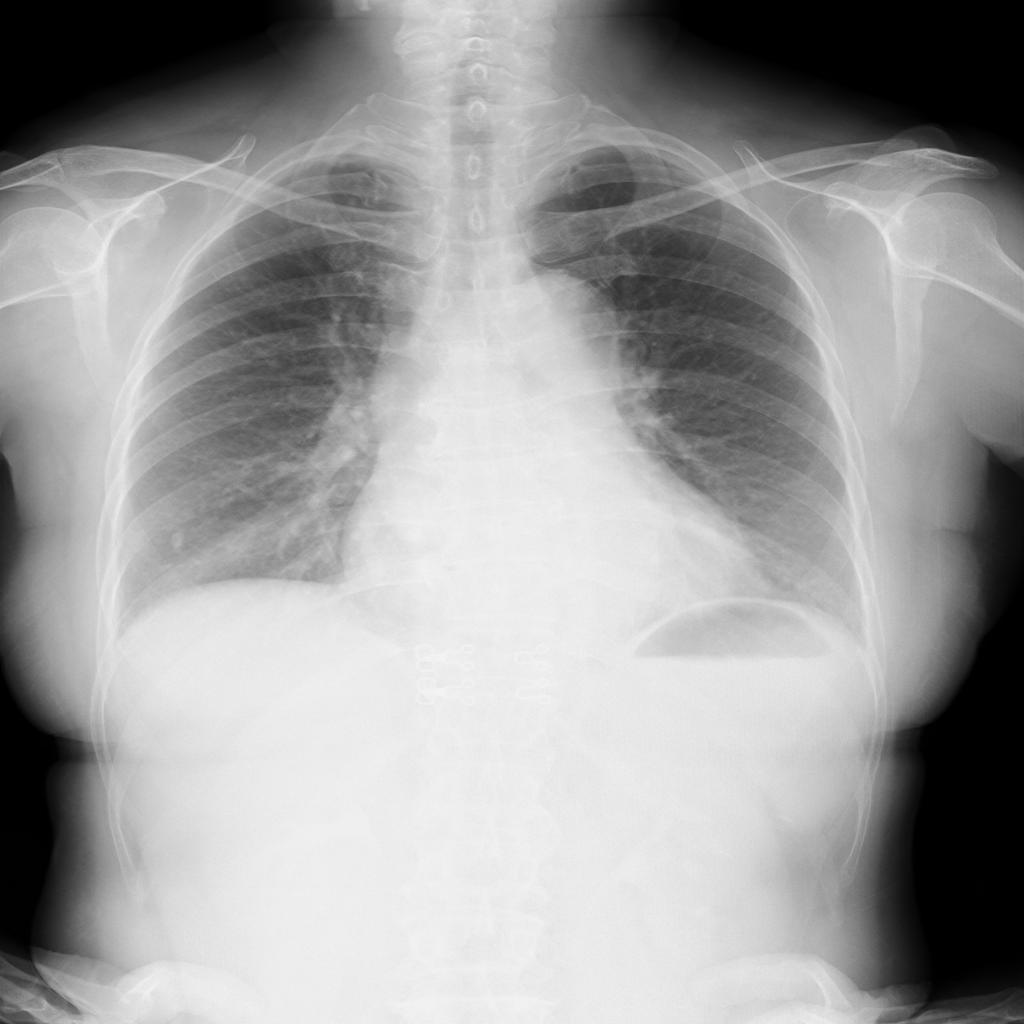Nodule: (171, 533, 186, 553)
